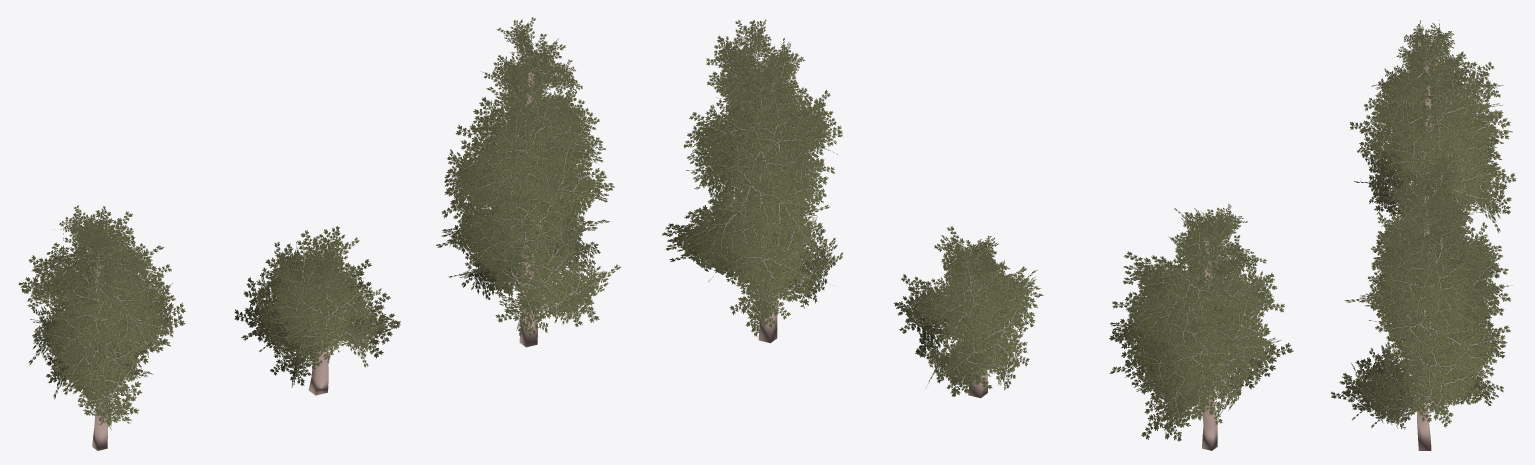
The model's file is trees.glb.
3 renders of one model, left to right at view 1: azimuth 30°, elevation 25°; view 2: azimuth 150°, elevation 25°; view 3: azimuth 270°, elevation 25°, orthographic. The views are drawn at different scales.
Visible parts, largest first — view 1: Tree_03, Tree_01, Tree_02; view 2: Tree_03, Tree_01, Tree_02; view 3: Tree_03, Tree_01, Tree_02.
Boxes of the visible parts, box(x1,y1,x2,y2) form: Tree_03: box(436, 17, 620, 347); Tree_01: box(18, 205, 185, 450); Tree_02: box(234, 226, 400, 395); Tree_03: box(662, 19, 843, 343); Tree_01: box(1109, 203, 1293, 450); Tree_02: box(893, 226, 1043, 398); Tree_03: box(1331, 149, 1512, 450); Tree_01: box(1350, 20, 1516, 232); Tree_02: box(1370, 219, 1508, 336).
Bounding box in the file's own units: 37.7 × 19.39 × 11.37.
2 materials, 1 textured.
